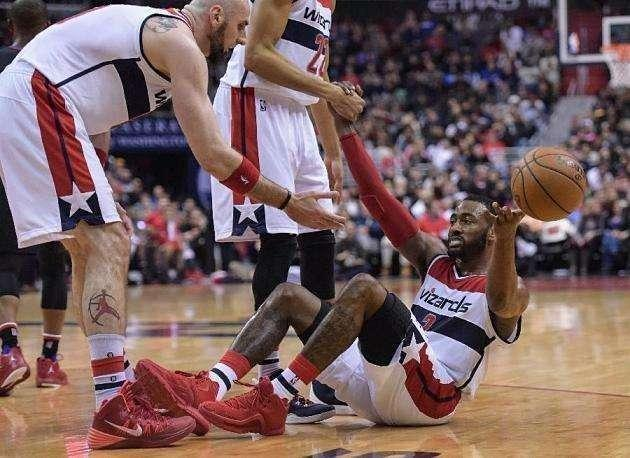10+: (1, 1, 630, 453)
down: (129, 71, 545, 446)
